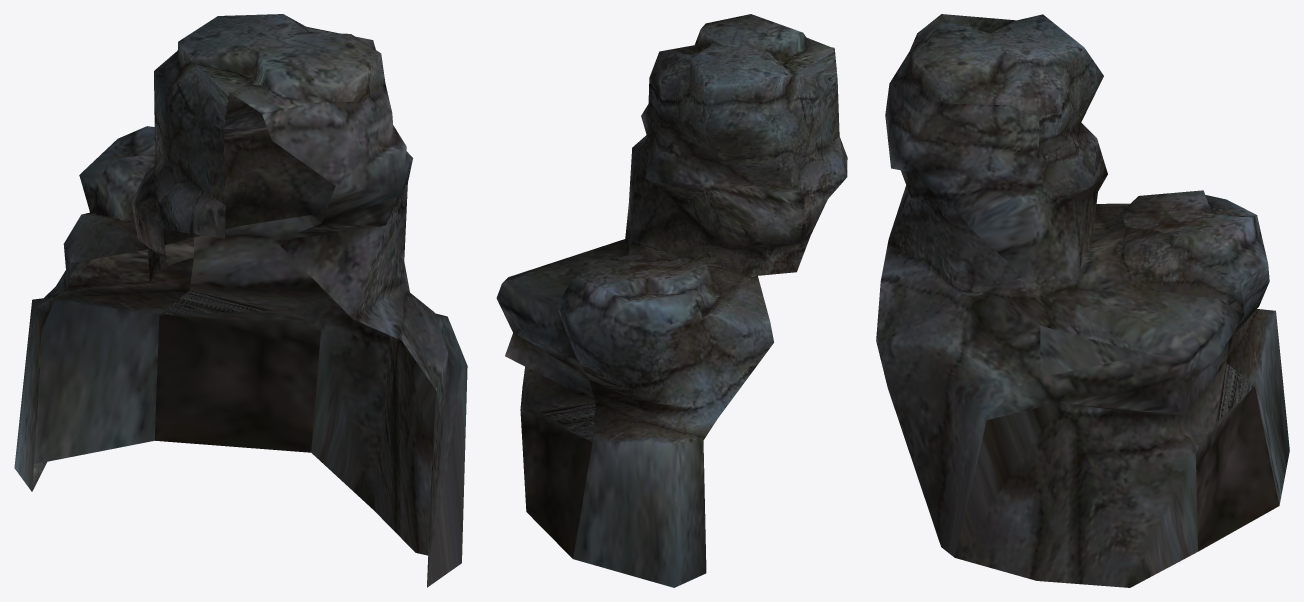
File: S_Rock_Yellow034_H43.FBX
3 renders of one model, left to right at view 1: azimuth 30°, elevation 25°; view 2: azimuth 150°, elevation 25°; view 3: azimuth 270°, elevation 25°, orthographic. The views are drawn at different scales.
Visible parts, largest first — view 1: S_Rock_Yellow034_H43; view 2: S_Rock_Yellow034_H43; view 3: S_Rock_Yellow034_H43.
Part boxes in pixels (left/top/right/bottom): S_Rock_Yellow034_H43: left=14, top=14, right=467, bottom=587; S_Rock_Yellow034_H43: left=496, top=14, right=847, bottom=587; S_Rock_Yellow034_H43: left=876, top=14, right=1289, bottom=587.
Size of the model in its own units: 656 by 854 by 1089.
Materials: 1 (1 with a texture image).
